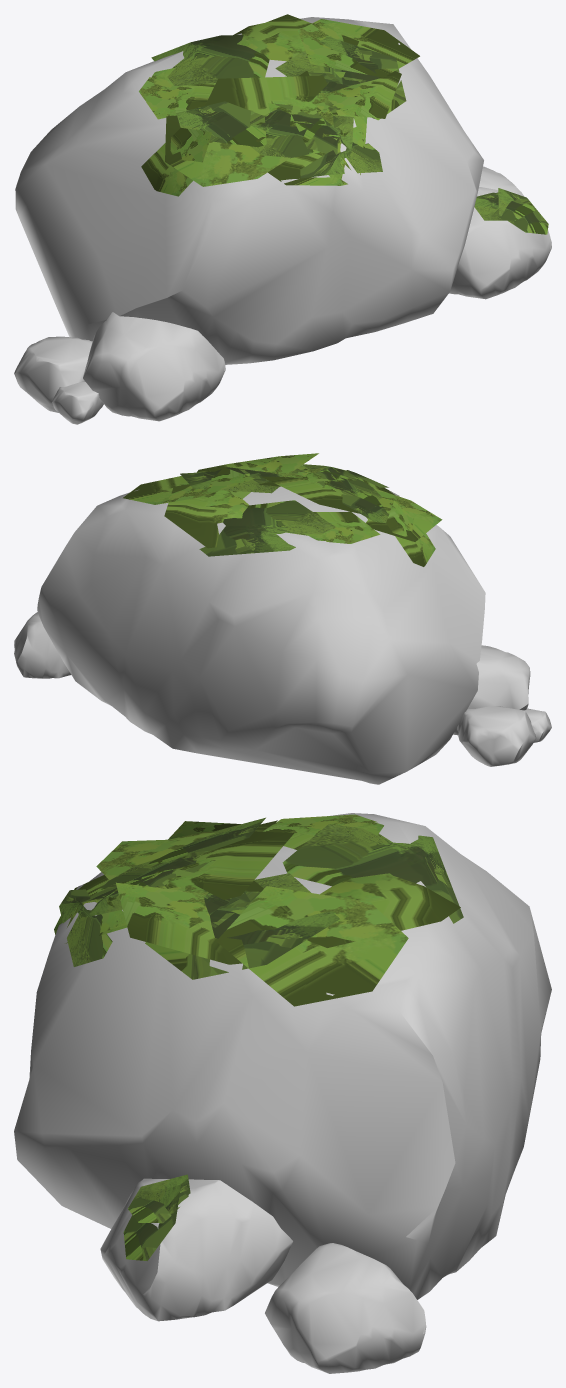
The model's file is Rocher_01.fbx.
The picture shows the model from 3 angles, top to bottom: view 1: azimuth 30°, elevation 25°; view 2: azimuth 150°, elevation 25°; view 3: azimuth 270°, elevation 25°; orthographic projection. The views are drawn at different scales.
Parts seen in each view (by area): view 1: Rocher_01; view 2: Rocher_01; view 3: Rocher_01.
Boxes of the visible parts, <box> form: Rocher_01: <box>14,14,551,424</box>; Rocher_01: <box>14,453,551,784</box>; Rocher_01: <box>14,813,551,1373</box>.
Bounding box in the file's own units: 5.6 × 2.65 × 3.5.
